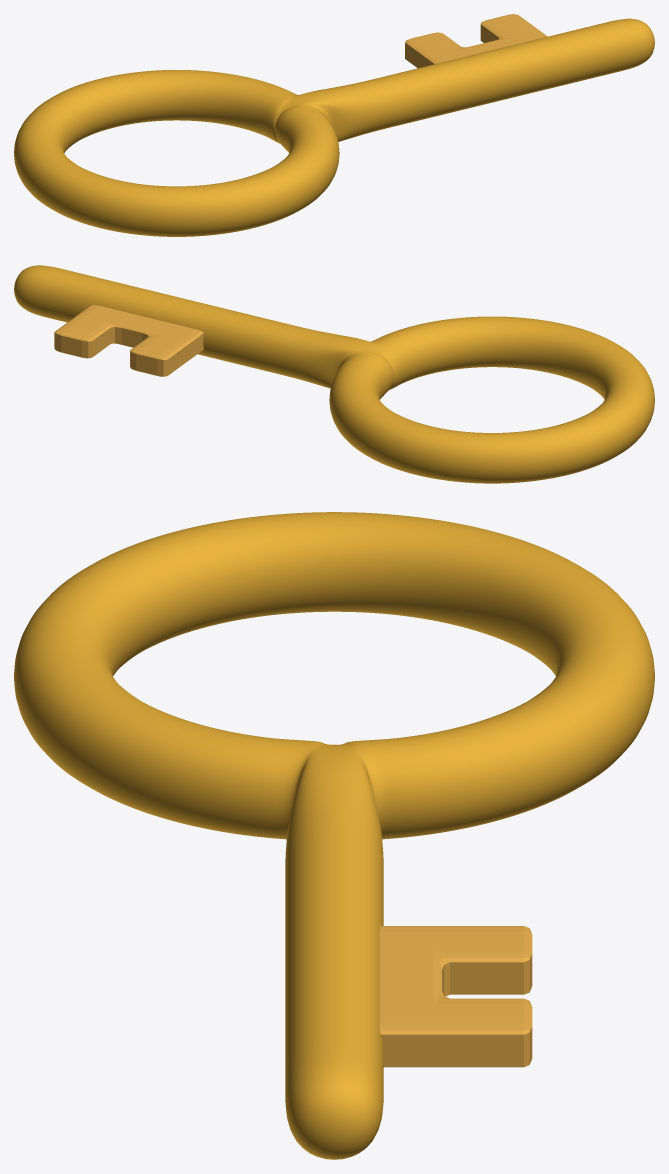
Rendered from key.fbx.
The picture shows the model from 3 angles, top to bottom: view 1: azimuth 30°, elevation 25°; view 2: azimuth 150°, elevation 25°; view 3: azimuth 270°, elevation 25°; orthographic projection. The views are drawn at different scales.
Parts seen in each view (by area): view 1: 円, 立方体; view 2: 円, 立方体; view 3: 円, 立方体.
Boxes of the visible parts, x1=… form: 円: x1=14, y1=18, x2=654, y2=236; 立方体: x1=405, y1=14, x2=547, y2=68; 円: x1=14, y1=265, x2=654, y2=483; 立方体: x1=54, y1=304, x2=203, y2=376; 円: x1=14, y1=512, x2=654, y2=1159; 立方体: x1=379, y1=926, x2=532, y2=1067.
Bounding box in the file's own units: 257 × 19.36 × 118.
